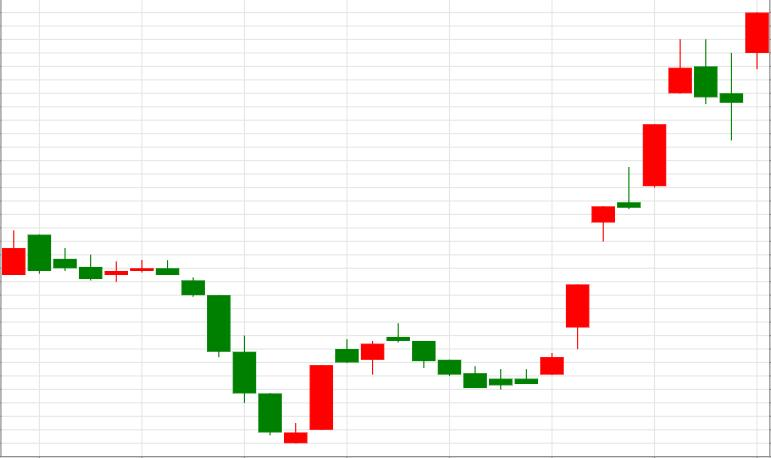morning_star_rise: (131, 259, 332, 444)
